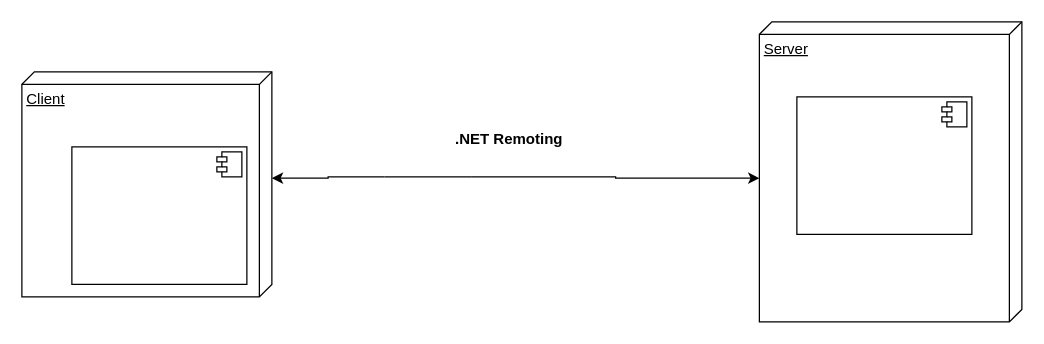
Some shapes in this 1044 by 344 pixel diagram are drawn without their labels. The centre of each missing label's shape, as x and y in pixels:
"Client.exe Program.cs MainMenuForm.cs Database.cs Row.cs Column.cs" belongs at point (159, 215).
"Server.exe Program.cs Database.cs Table.cs Row.cs Column.cs" belongs at point (884, 165).
